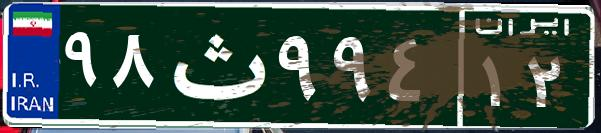1: (475, 38, 525, 113)
2: (525, 38, 570, 115)
4: (385, 28, 445, 110)
8: (110, 28, 158, 105)
9: (273, 28, 330, 110), (330, 28, 385, 110), (57, 26, 110, 107)
ث: (158, 15, 273, 115)
